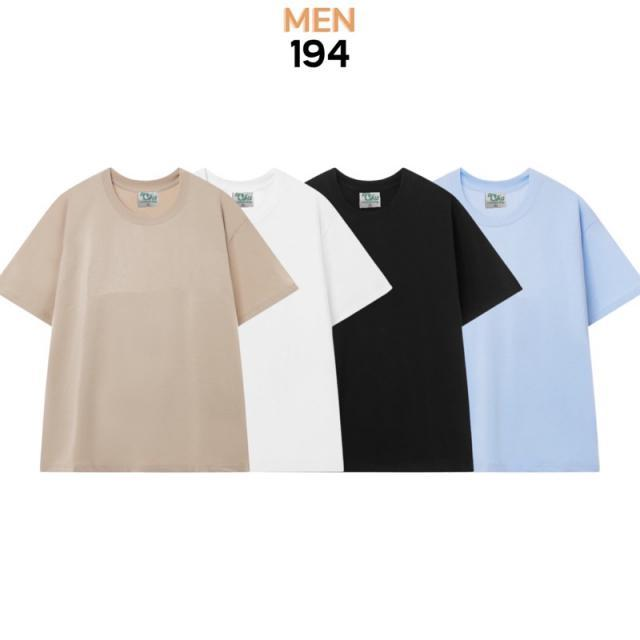Shirt: (0, 168, 300, 475), (266, 167, 526, 476), (144, 171, 398, 473), (395, 166, 639, 479)
